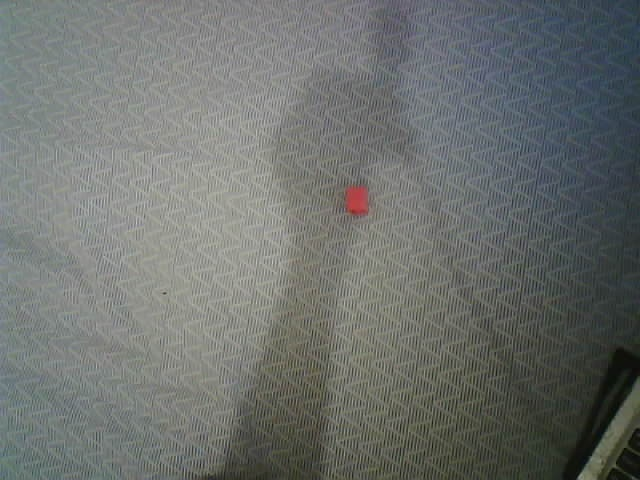lego: (345, 186, 369, 215)
